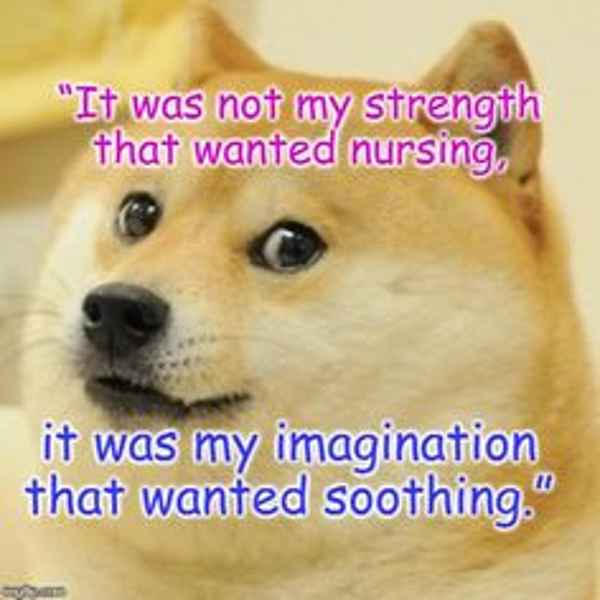doge: (77, 166, 361, 425)
